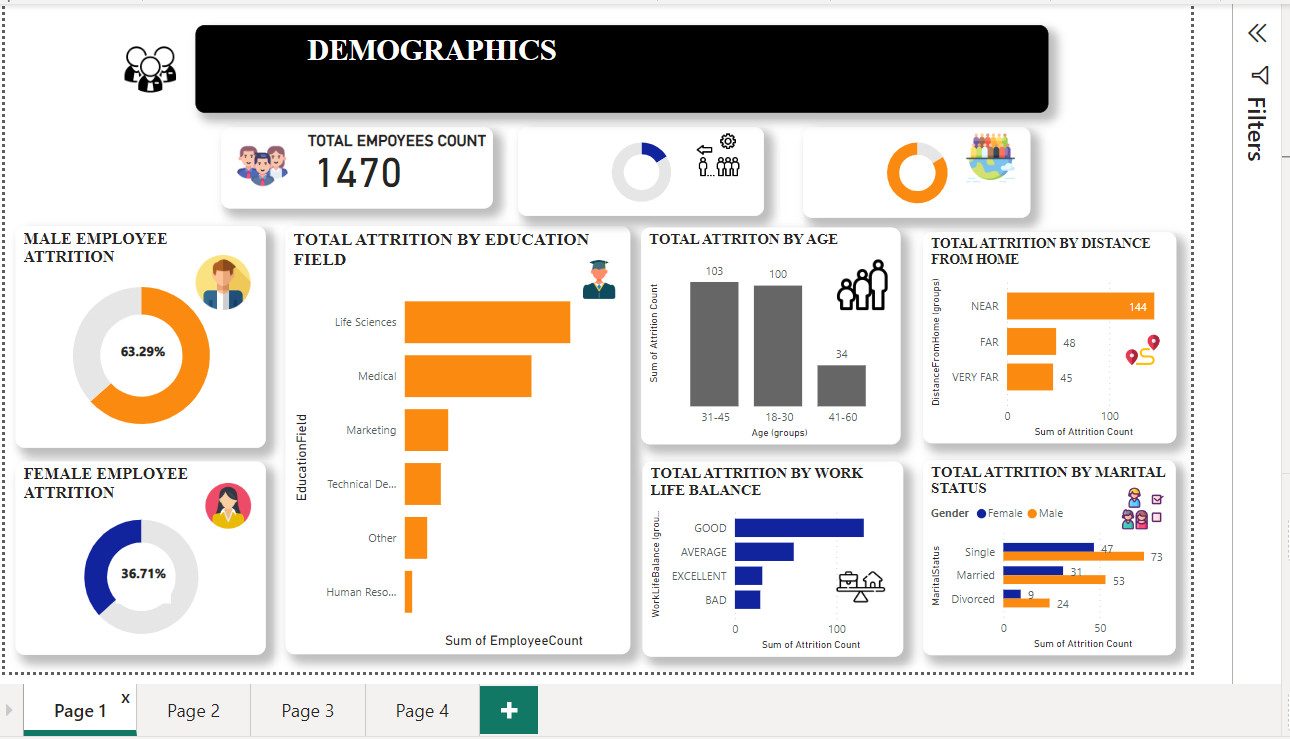

Layout of this report page (visuals, bound fields, positions):
{"tool":"powerbi","page":{"name":"Page 1","canvas":[1280,720],"ordinal":0},"visuals":[{"type":"card","title":"TOTAL EMPOYEES COUNT","fields":{"Values":["Sum(HR-Employee-Attrition.EmployeeCount)"]},"box":[233.7,132.6,293.3,87.8],"z":0},{"type":"clusteredBarChart","title":"TOTAL ATTRITION BY EDUCATION FIELD","fields":{"Category":["HR-Employee-Attrition.EducationField"],"Y":["Sum(HR-Employee-Attrition.EmployeeCount)"]},"box":[302.6,240.1,371.7,462.1],"z":1000},{"type":"donutChart","fields":{"Y":["Sum(HR-Employee-Attrition.Attrition Count)","HR-Employee-Attrition.Active Employees"]},"box":[553.5,132.6,265.2,96.1],"z":2000},{"type":"donutChart","fields":{"Y":["Sum(HR-Employee-Attrition.Attrition Count)","HR-Employee-Attrition.Active Employees"]},"box":[860.2,132.6,245.3,97.8],"z":3000},{"type":"clusteredBarChart","title":"TOTAL ATTRITION BY WORK LIFE BALANCE","fields":{"Category":["HR-Employee-Attrition.WorkLifeBalance (groups)"],"Y":["Sum(HR-Employee-Attrition.Attrition Count)"]},"box":[687.4,493.4,281.2,210.5],"z":4000},{"type":"clusteredColumnChart","title":"TOTAL ATTRITON BY AGE","fields":{"Category":["HR-Employee-Attrition.Age (groups)"],"Y":["Sum(HR-Employee-Attrition.Attrition Count)"]},"box":[686.4,240.8,280.1,234.3],"z":5000},{"type":"clusteredBarChart","title":"TOTAL ATTRITION BY MARITAL STATUS","fields":{"Category":["HR-Employee-Attrition.MaritalStatus"],"Series":["HR-Employee-Attrition.Gender"],"Y":["Sum(HR-Employee-Attrition.Attrition Count)"]},"box":[990,491.7,273,210.5],"z":6000},{"type":"donutChart","title":"MALE EMPLOYEE ATTRITION","fields":{"Category":["HR-Employee-Attrition.Gender"],"Y":["Sum(HR-Employee-Attrition.Attrition Count)"]},"box":[11.3,239.5,270.2,239.5],"z":7000},{"type":"donutChart","title":"FEMALE EMPLOYEE ATTRITION ","fields":{"Category":["HR-Employee-Attrition.Gender"],"Y":["Sum(HR-Employee-Attrition.Attrition Count)"]},"box":[11.3,493.5,270.2,208.7],"z":8000},{"type":"barChart","title":"TOTAL ATTRITION BY DISTANCE FROM HOME","fields":{"Category":["HR-Employee-Attrition.DistanceFromHome (groups)"],"Y":["Sum(HR-Employee-Attrition.Attrition Count)"]},"box":[990.2,245.9,273.4,228.1],"z":9000},{"type":"textbox","box":[205.5,23.2,919.8,94.5],"z":10000},{"type":"textbox","box":[119.3,598.3,59.7,48.1],"z":11000},{"type":"textbox","box":[119.3,359.6,59.7,49.7],"z":12000},{"type":"image","box":[883.4,270.2,82.5,64.7],"z":13000},{"type":"image","box":[883.4,597,79.3,63.1],"z":14000},{"type":"image","box":[205.5,511.3,71.2,59.9],"z":15000},{"type":"image","box":[190.9,265.3,89,69.6],"z":16000},{"type":"image","box":[108.4,35.6,97.1,69.6],"z":17000},{"type":"image","box":[1198.9,514.5,56.6,59.9],"z":18000},{"type":"image","box":[1198.9,349.5,56.6,46.9],"z":19000},{"type":"image","box":[613.2,265.3,55,63.1],"z":20000},{"type":"image","box":[737.8,132.7,63.1,59.9],"z":21000},{"type":"image","box":[244.3,129.4,66.3,90.6],"z":22000},{"type":"image","box":[1027.4,134.3,71.2,63.1],"z":23000}]}

Visuals, with their boxes on the page's 1280x720 design canvas (x1, y1, x2, y2). These are canvas units, not pixel positions in the 1290x739 screenshot, which may show the page scaled, cropped or inside an application window:
"TOTAL EMPOYEES COUNT" card: [234,133,527,220]
"TOTAL ATTRITION BY EDUCATION FIELD" clusteredBarChart: [303,240,674,702]
donutChart - Sum(HR-Employee-Attrition.Attrition Count) x HR-Employee-Attrition.Active Employees: [554,133,819,229]
donutChart - Sum(HR-Employee-Attrition.Attrition Count) x HR-Employee-Attrition.Active Employees: [860,133,1106,230]
"TOTAL ATTRITION BY WORK LIFE BALANCE" clusteredBarChart: [687,493,969,704]
"TOTAL ATTRITON BY AGE" clusteredColumnChart: [686,241,966,475]
"TOTAL ATTRITION BY MARITAL STATUS" clusteredBarChart: [990,492,1263,702]
"MALE EMPLOYEE ATTRITION" donutChart: [11,240,282,479]
"FEMALE EMPLOYEE ATTRITION " donutChart: [11,494,282,702]
"TOTAL ATTRITION BY DISTANCE FROM HOME" barChart: [990,246,1264,474]
textbox: [206,23,1125,118]
textbox: [119,598,179,646]
textbox: [119,360,179,409]
image: [883,270,966,335]
image: [883,597,963,660]
image: [206,511,277,571]
image: [191,265,280,335]
image: [108,36,206,105]
image: [1199,514,1256,574]
image: [1199,350,1256,396]
image: [613,265,668,328]
image: [738,133,801,193]
image: [244,129,311,220]
image: [1027,134,1099,197]
